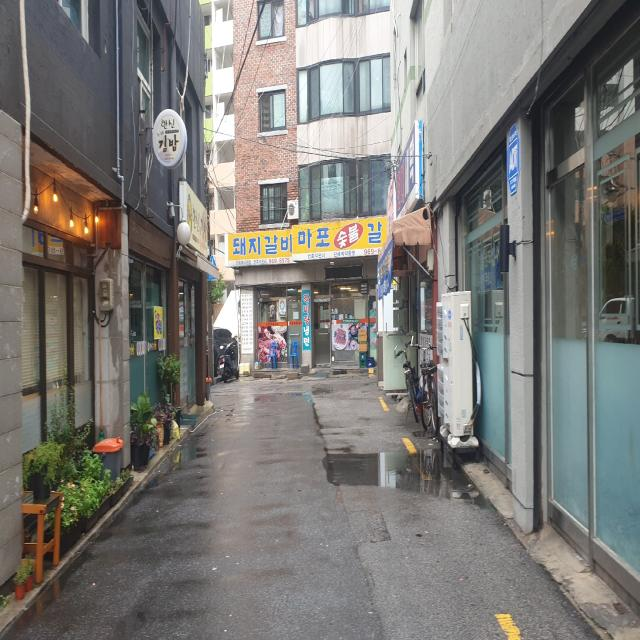motorbike: (218, 342, 240, 383)
